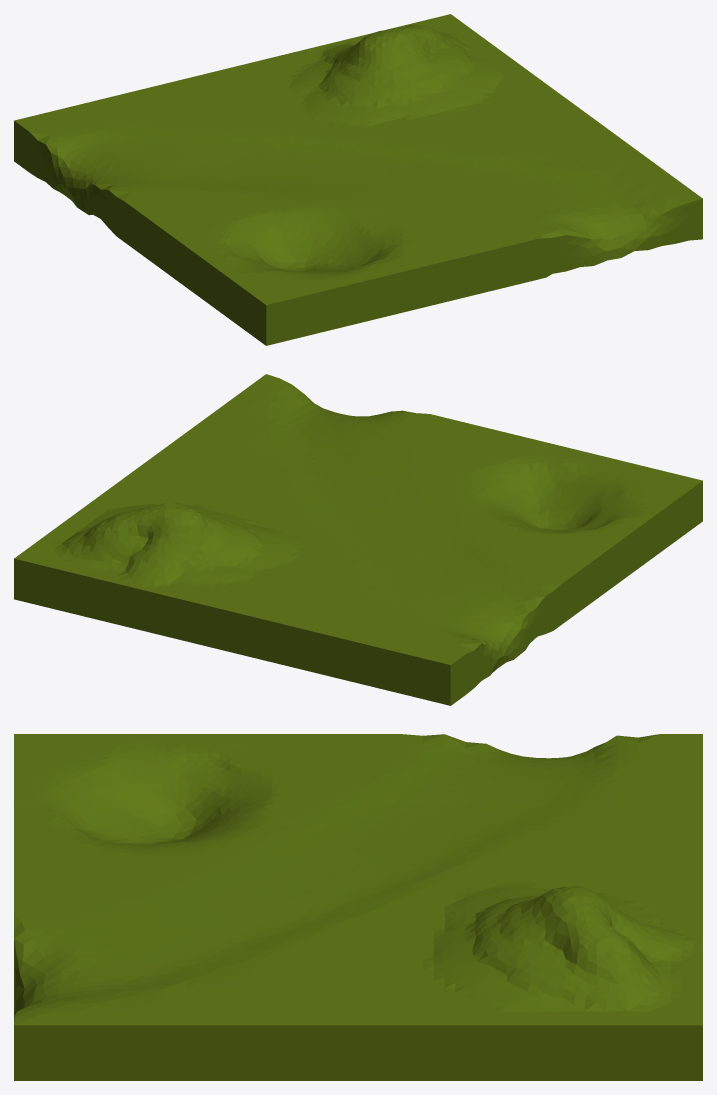
The model's file is ground_1.gltf.
3 views of the same model, one above another, from view 1: azimuth 30°, elevation 25°; view 2: azimuth 150°, elevation 25°; view 3: azimuth 270°, elevation 25° (orthographic). The views are drawn at different scales.
Parts seen in each view (by area): view 1: Cube; view 2: Cube; view 3: Cube.
Boxes of the visible parts, <box> form: Cube: <box>14,14,702,345</box>; Cube: <box>14,374,702,705</box>; Cube: <box>14,734,702,1080</box>.
Size of the model in its own units: 102 by 18.86 by 102.
1 material, 1 textured.
